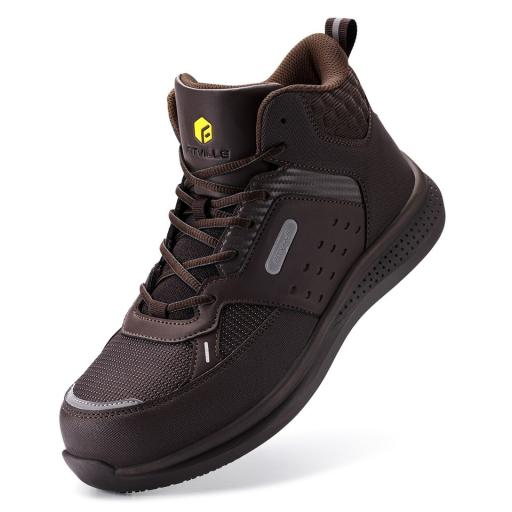safety_boots: (47, 32, 459, 506)
